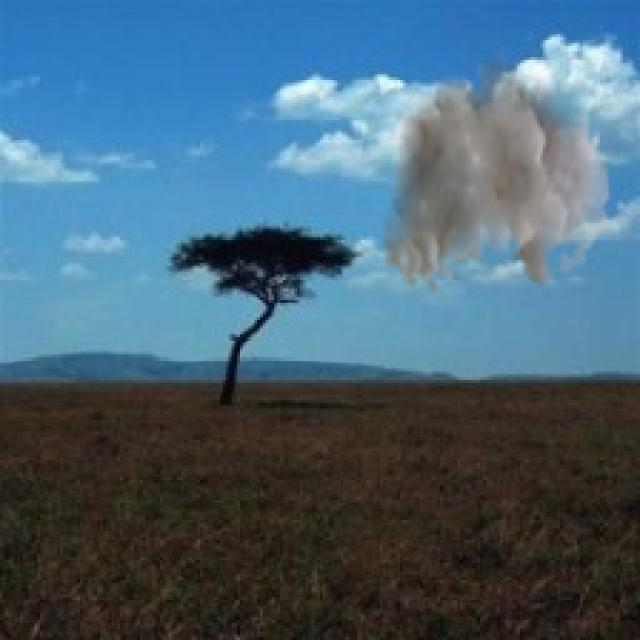Smoke: (379, 46, 612, 294)
